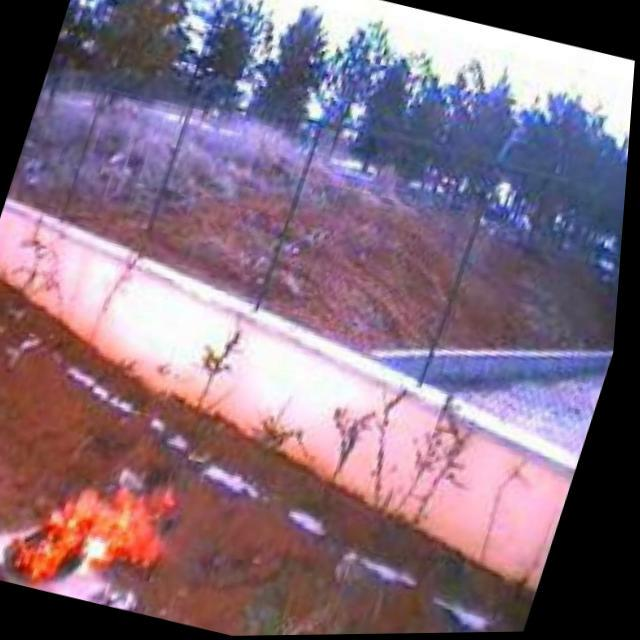fire: (4, 453, 192, 611)
